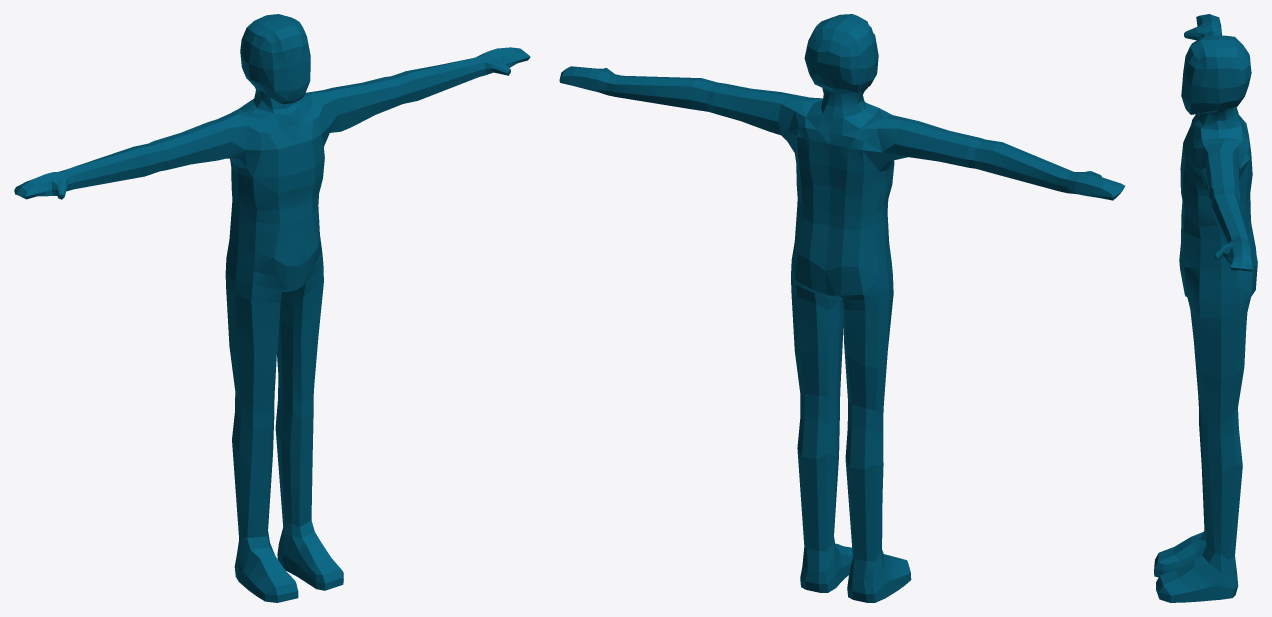
The model's file is MainCharacter.obj.
3 views of the same model, side by side, from view 1: azimuth 30°, elevation 25°; view 2: azimuth 150°, elevation 25°; view 3: azimuth 270°, elevation 25° (orthographic). The views are drawn at different scales.
Parts seen in each view (by area): view 1: Body; view 2: Body; view 3: Body.
Boxes of the visible parts, left/top/right/bottom form: Body: left=14, top=14, right=530, bottom=602; Body: left=559, top=14, right=1125, bottom=602; Body: left=1154, top=14, right=1257, bottom=602.
Size of the model in its own units: 1.81 by 1.81 by 0.3142.
